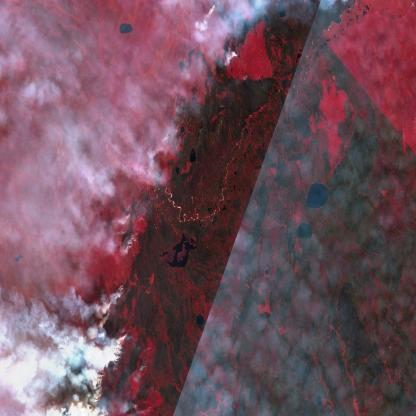fire: (81, 0, 259, 416)
